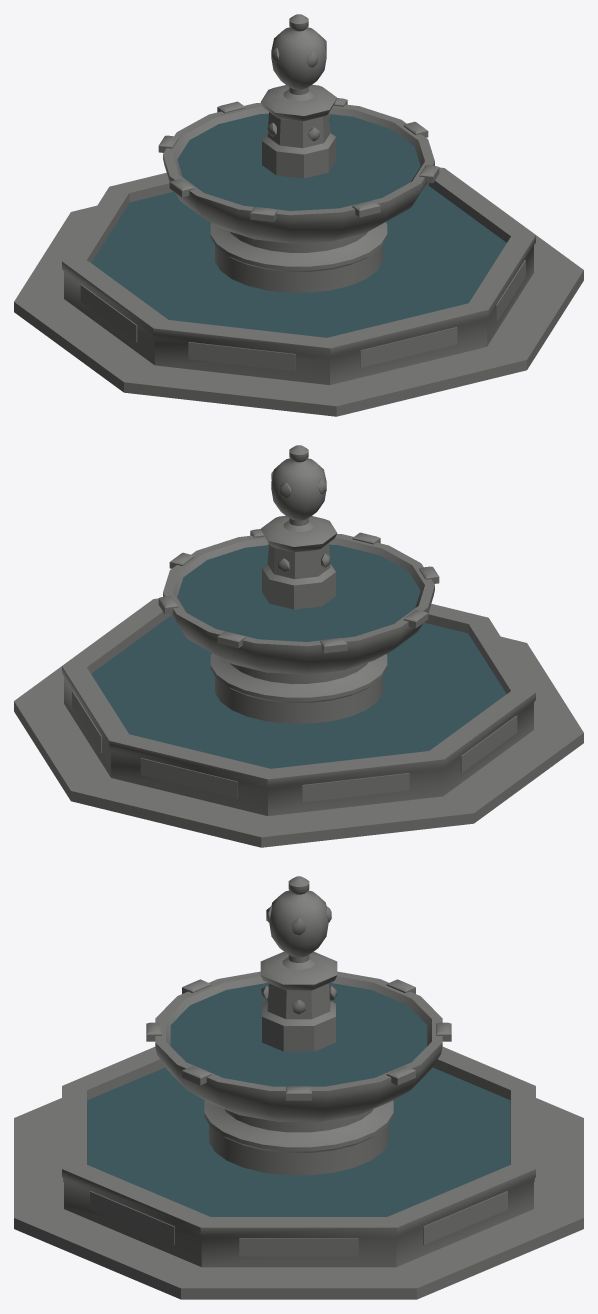
The model's file is mon_hietzigbrunnen.glb.
3 views of the same model, one above another, from view 1: azimuth 30°, elevation 25°; view 2: azimuth 150°, elevation 25°; view 3: azimuth 270°, elevation 25° (orthographic). The views are drawn at different scales.
Visible parts, largest first — view 1: mon_hietzigbrunnen; view 2: mon_hietzigbrunnen; view 3: mon_hietzigbrunnen.
Part boxes in pixels (box(x1,y1,x2,y2)): mon_hietzigbrunnen: box(14, 14, 583, 416); mon_hietzigbrunnen: box(14, 445, 583, 847); mon_hietzigbrunnen: box(14, 876, 583, 1299).
Size of the model in its own units: 7.4 by 4.33 by 7.4.
